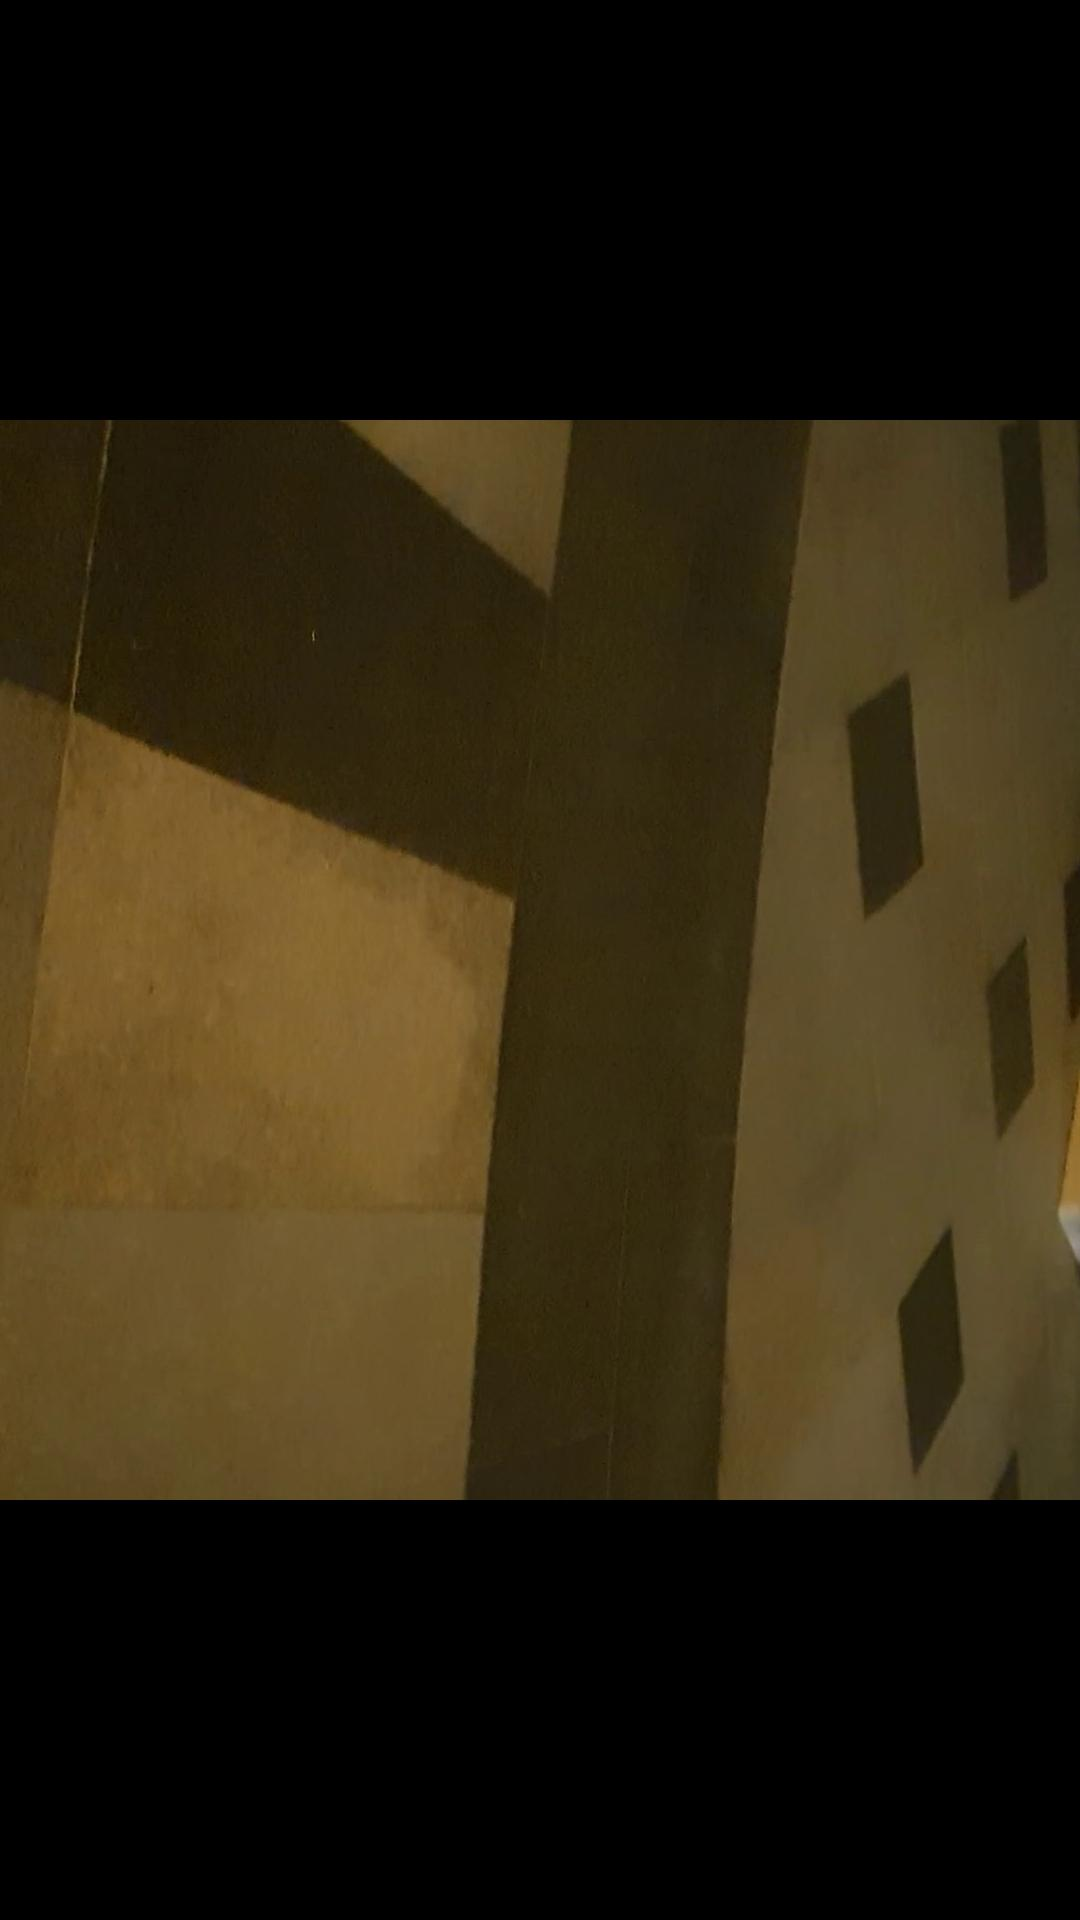Box: (1042, 1062, 1080, 1275)
